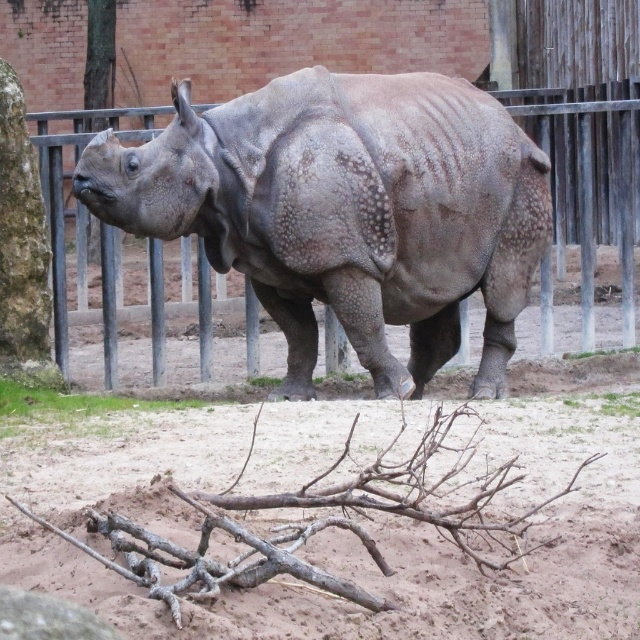Rhinoceros: (65, 63, 556, 411)
